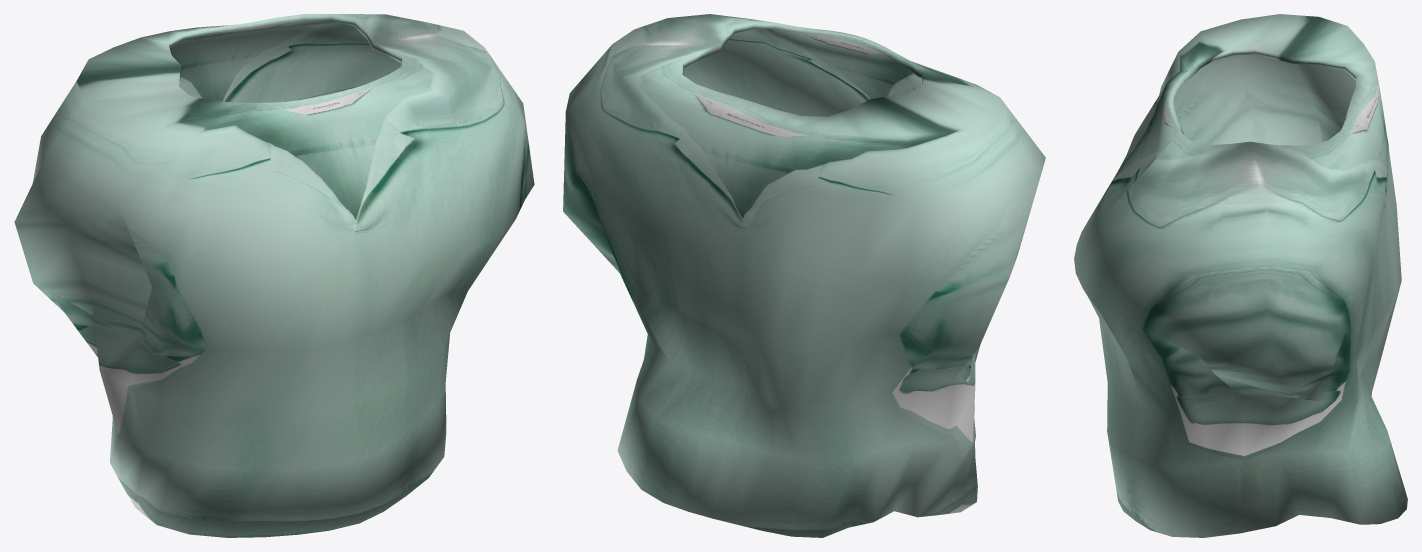
Rendered from 56700319-5e71-4a85-93ac-1eeb4ab92fc1.glb.
3 views of the same model, side by side, from view 1: azimuth 30°, elevation 25°; view 2: azimuth 150°, elevation 25°; view 3: azimuth 270°, elevation 25° (orthographic). The views are drawn at different scales.
Visible parts, largest first — view 1: garment; view 2: garment; view 3: garment.
Part boxes in pixels (box(x1,y1,x2,y2)): garment: box(14, 14, 534, 537); garment: box(563, 14, 1045, 537); garment: box(1074, 14, 1407, 537).
Bounding box in the file's own units: 0.5518 × 0.4729 × 0.3528.
Materials: 1 (1 with a texture image).
